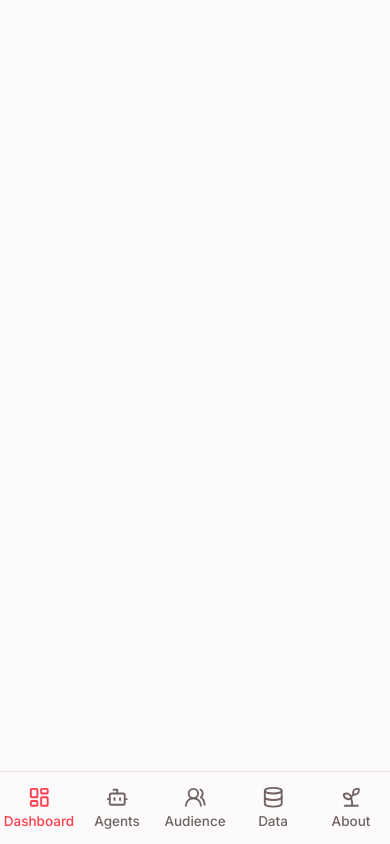
Scenario: MobileNav fan-up popover › exposes Content libraries + Settings inside the About fan
The width and height of the screenshot is (390, 844).
Click the button "About". click: (351, 808)
box: [312, 772, 389, 843]
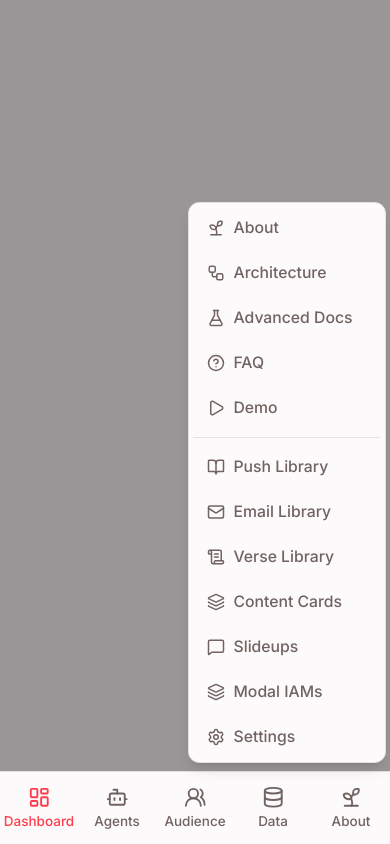
Expected: the link "Push Library" is shown, [206, 457, 328, 476]
Expected: the link "Email Library" is shown, [206, 502, 331, 521]
Expected: the link "Verse Library" is shown, [206, 547, 334, 566]
